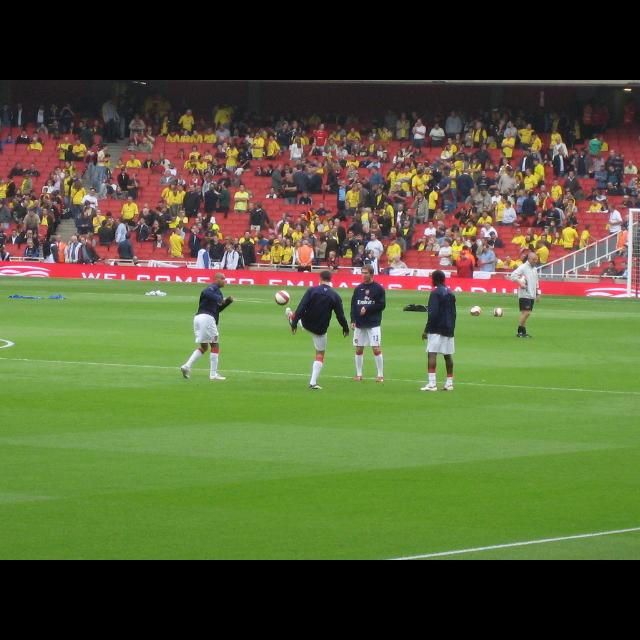Football: (274, 290, 290, 304), (492, 306, 506, 316), (466, 304, 479, 314)
